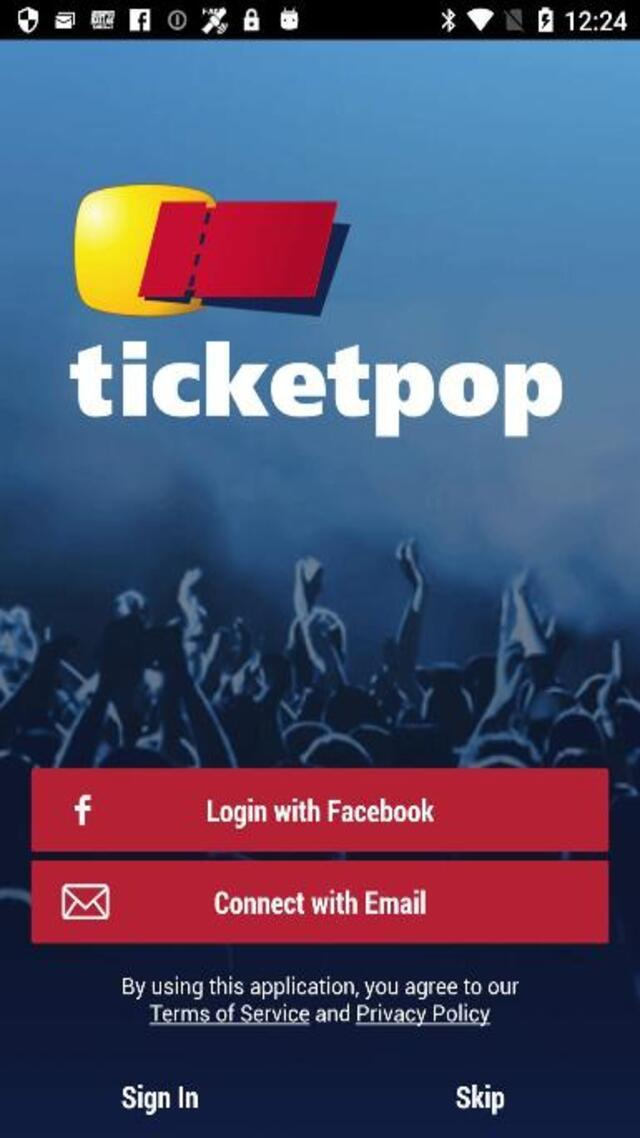Icon: (57, 882, 113, 920), (70, 789, 96, 831)
Image: (72, 185, 350, 320)
Text: (69, 342, 563, 437), (144, 1000, 493, 1030), (116, 976, 522, 1000), (200, 795, 440, 826), (212, 887, 430, 921), (121, 1083, 198, 1115), (456, 1084, 504, 1114)
TextButton: (30, 860, 608, 944), (30, 768, 608, 850)
